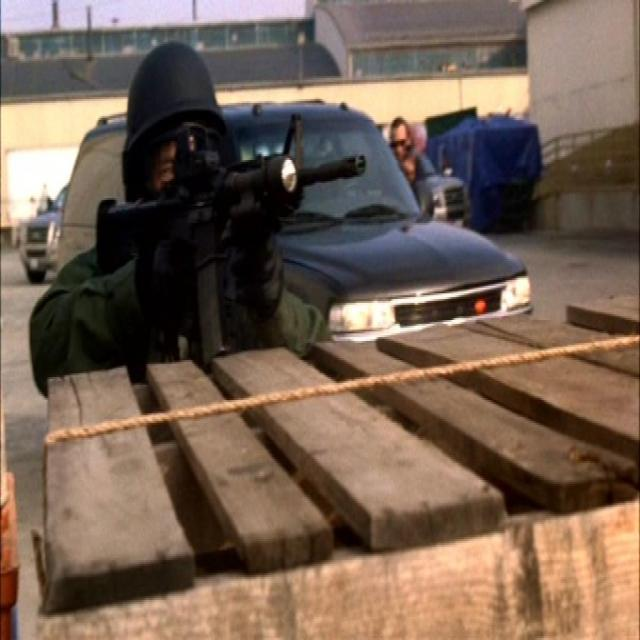rifle: (94, 109, 372, 380)
